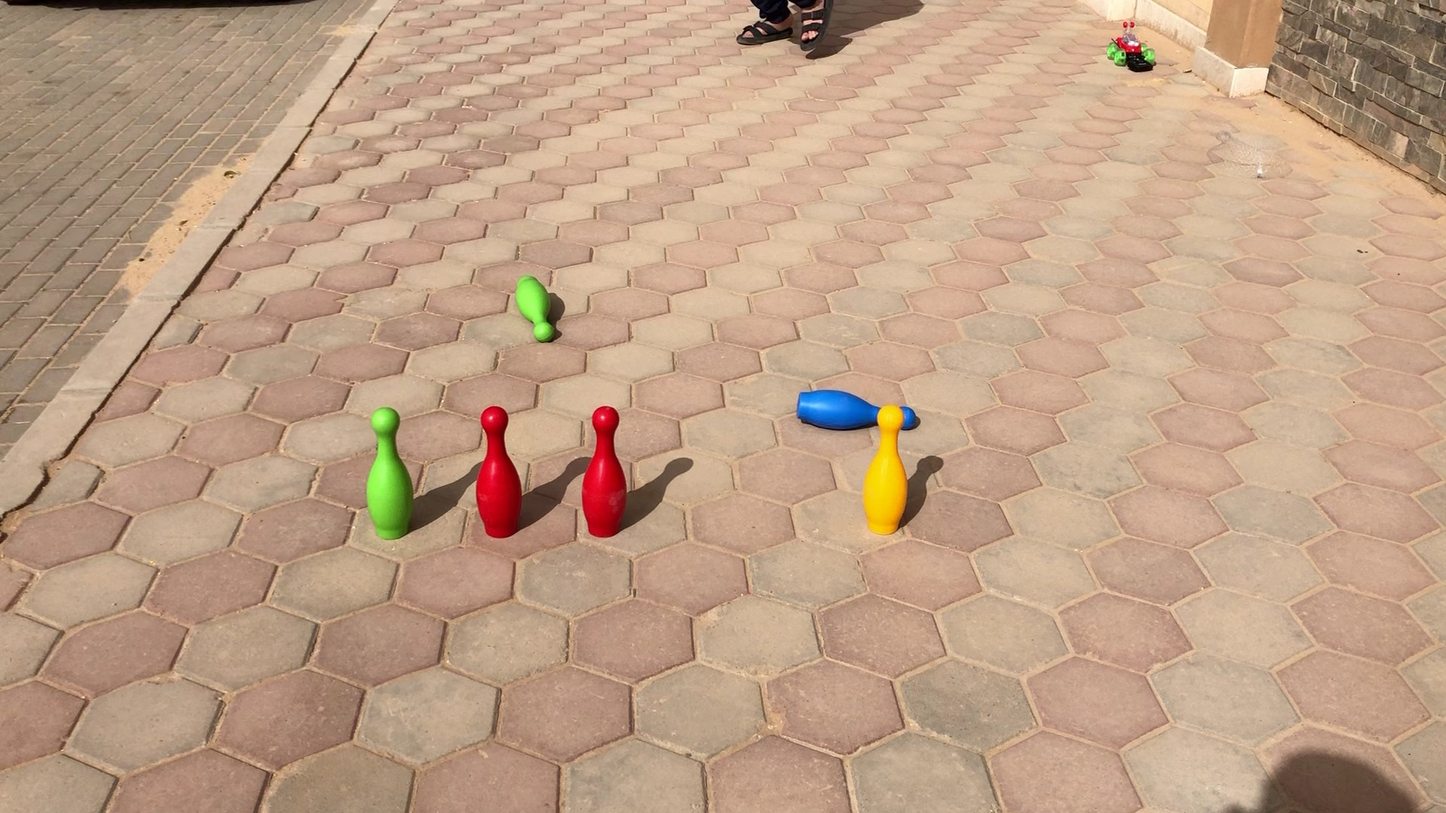bowling-pin: (788, 383, 919, 435), (863, 400, 911, 534), (474, 406, 520, 536), (365, 407, 411, 537), (582, 407, 626, 537), (513, 276, 557, 343)
